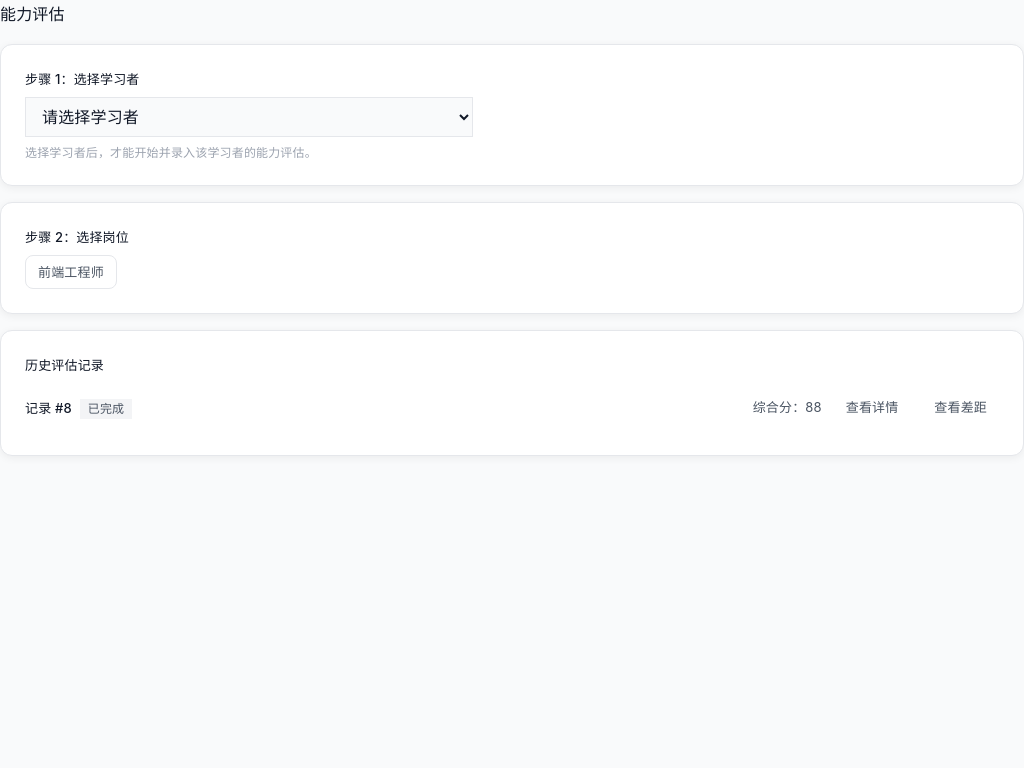
Test case: AssessmentTab › can open assessment record details
Click the button "查看详情": (872, 407) [834,391,910,423]
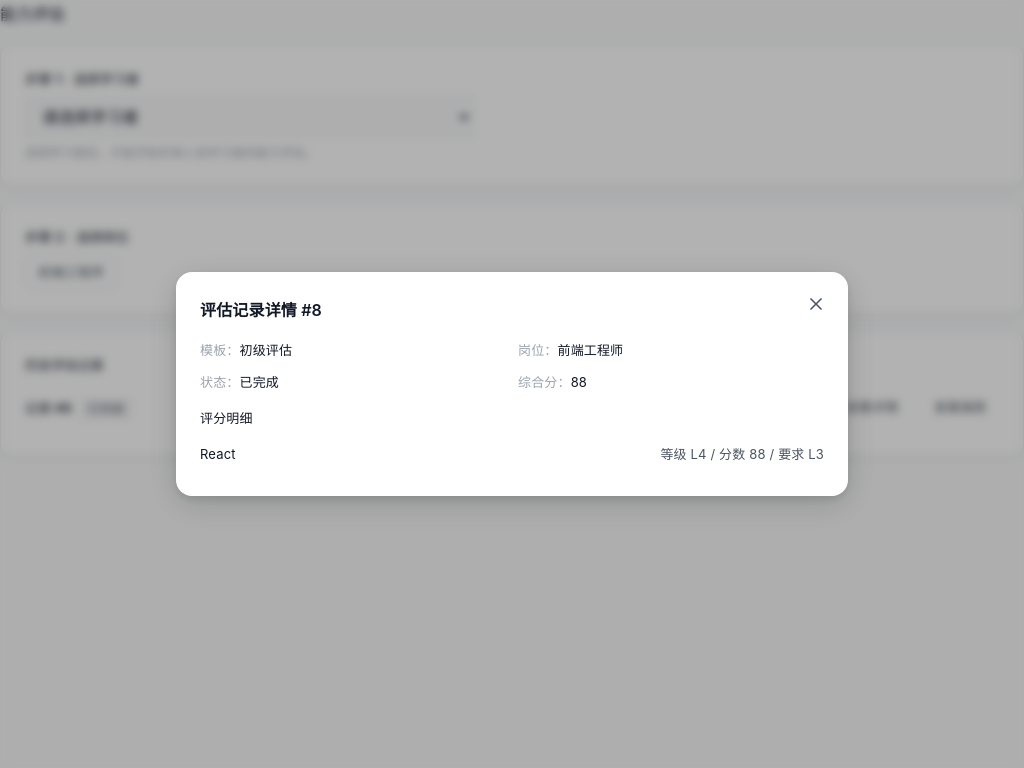
Result: the heading "评估记录详情 #8" is shown at [200,300,322,320]
